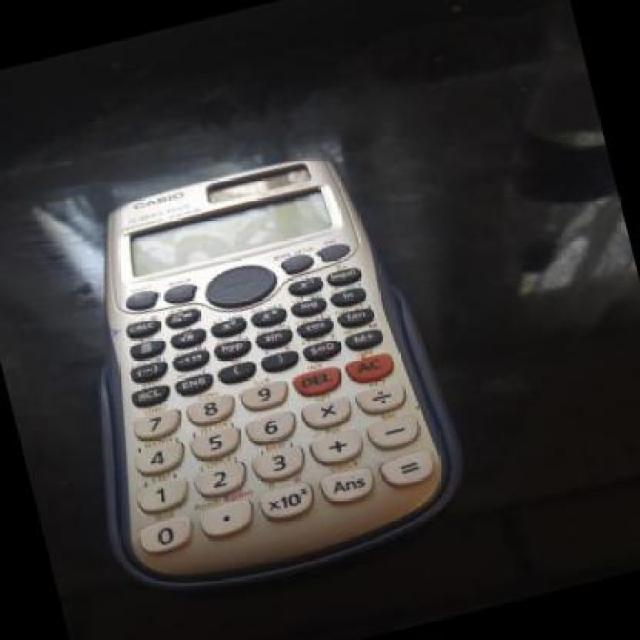Calculator: (25, 125, 481, 617)
